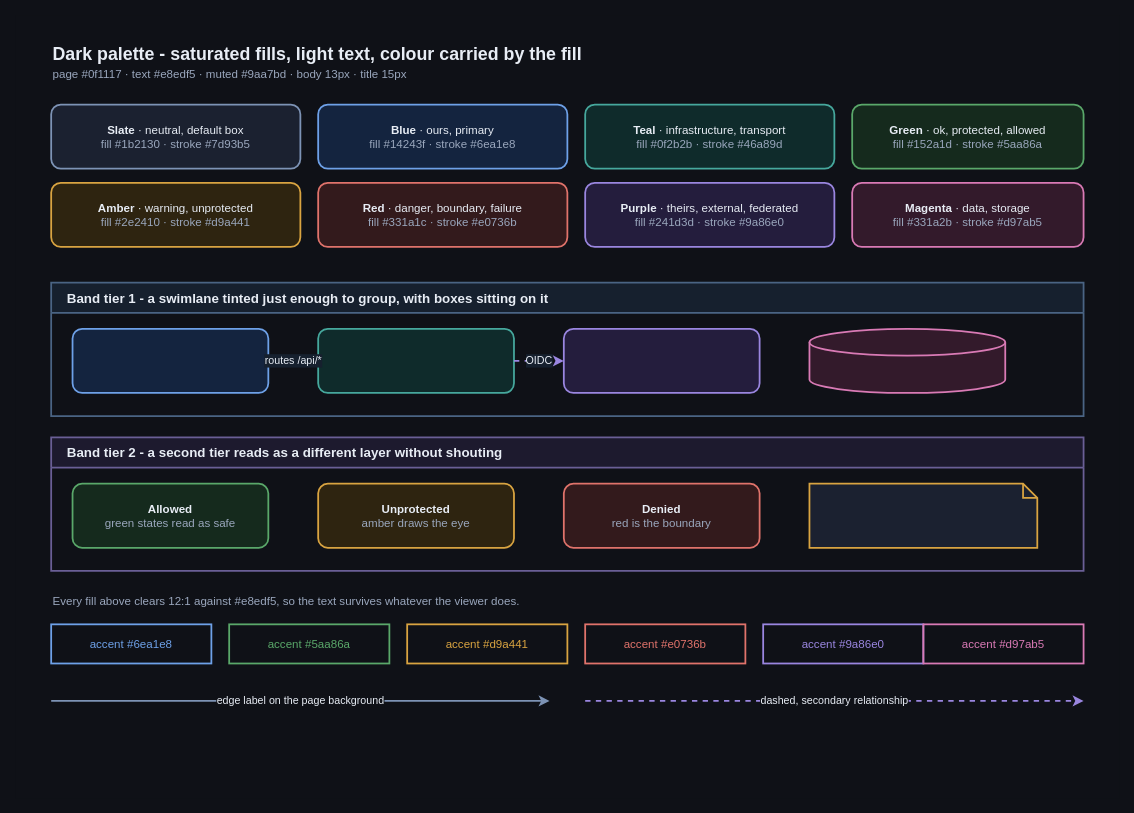
This 1134x813 diagram has some shape labels left out. The centre of each missing label's shape, as x and y in pixels:
A note keeps muted body text and a coloured edge: the point at 923,515
Gateway teal, infrastructure: the point at 415,360
Partner purple, not ours: the point at 661,360
postgres: the point at 907,360
Service blue on a slate band: the point at 170,360
